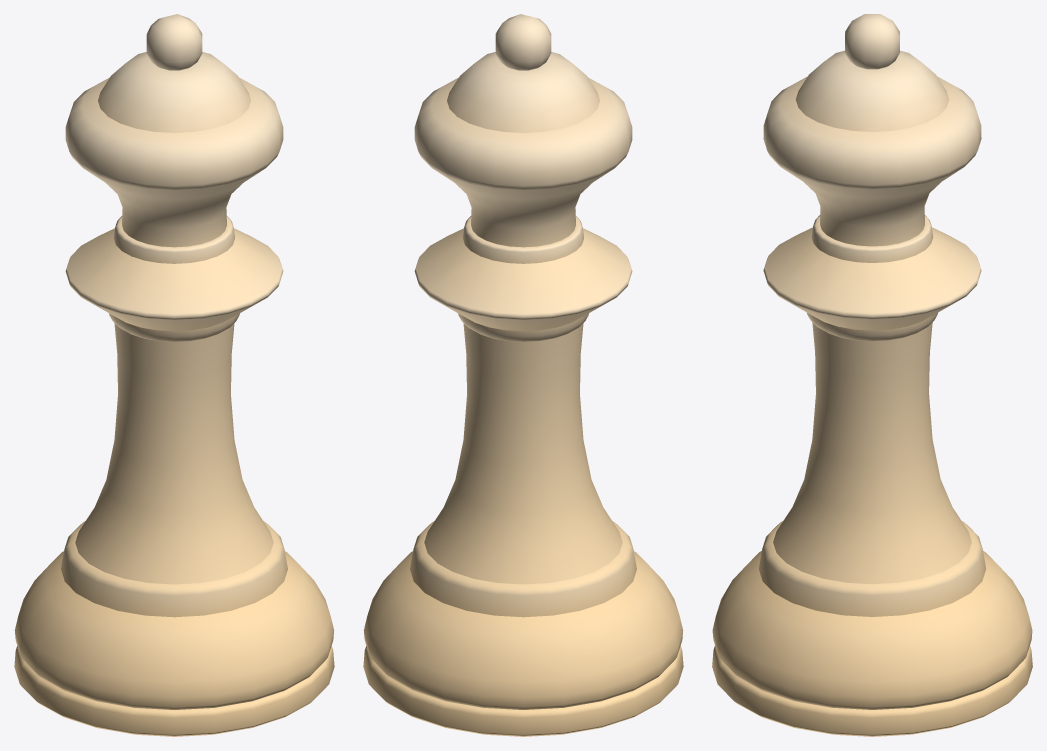
File: Chess_White_Queen_01.glb
The picture shows the model from 3 angles, left to right: view 1: azimuth 30°, elevation 25°; view 2: azimuth 150°, elevation 25°; view 3: azimuth 270°, elevation 25°; orthographic projection.
Visible parts, largest first — view 1: Chess_White_Queen_01; view 2: Chess_White_Queen_01; view 3: Chess_White_Queen_01.
Boxes of the visible parts, x1,y1,x2,y2 form: Chess_White_Queen_01: (14,14,334,736); Chess_White_Queen_01: (363,14,683,736); Chess_White_Queen_01: (712,14,1032,736).
Size of the model in its own units: 0.0401 by 0.0909 by 0.0401.
2 materials, 2 textured.
